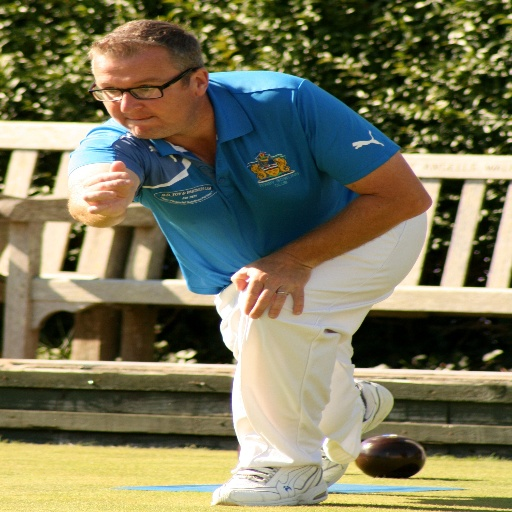hand: (228, 244, 335, 322), (79, 161, 134, 219)
